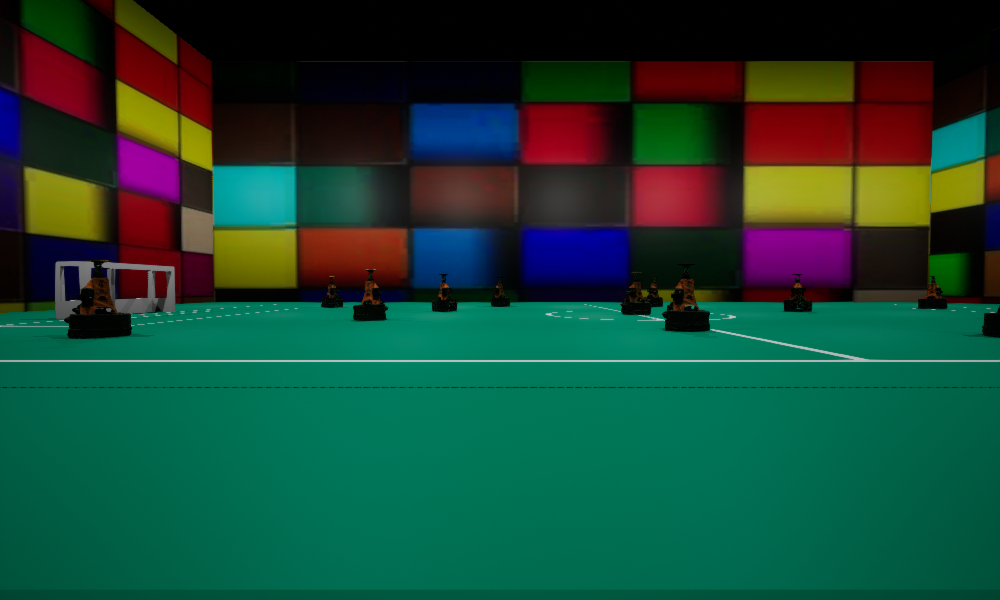o: (64, 260, 131, 337), (662, 263, 709, 331), (353, 269, 388, 320), (620, 272, 650, 314), (784, 274, 811, 311), (918, 276, 948, 308), (432, 274, 456, 311), (321, 276, 342, 307), (643, 277, 662, 306), (490, 277, 509, 306), (982, 305, 999, 337)
